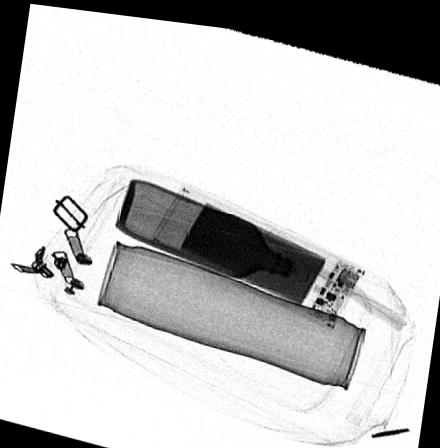Powerbank: (147, 180, 366, 321)
